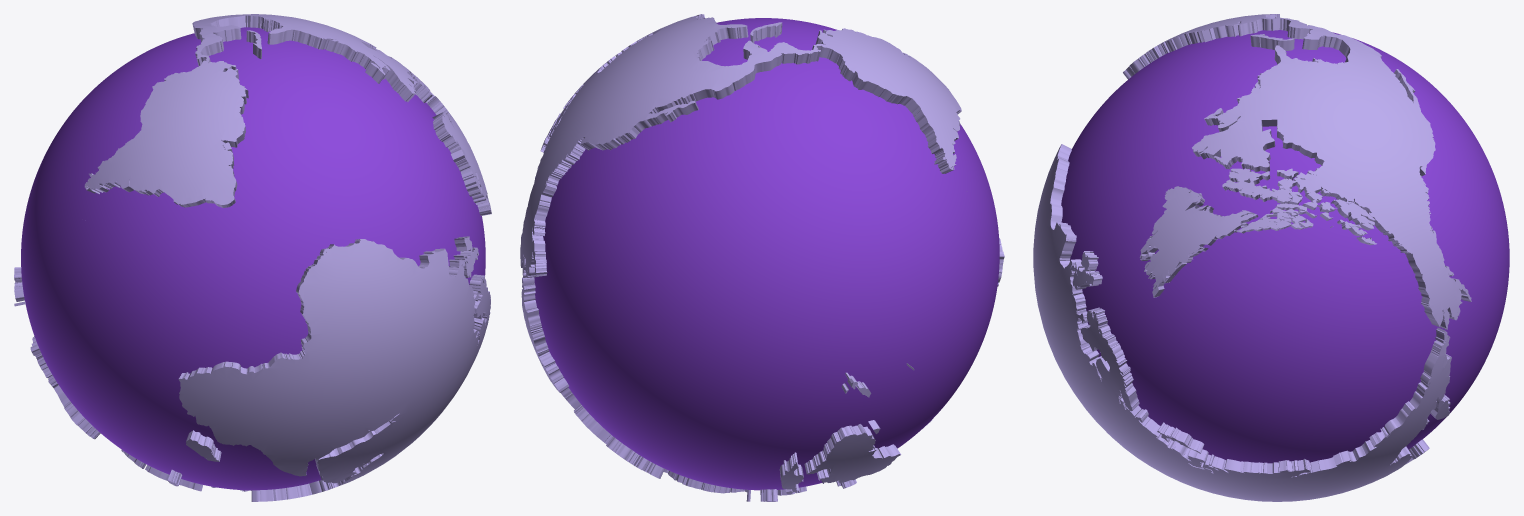
The model's file is newEarth.glb.
The picture shows the model from 3 angles, left to right: view 1: azimuth 30°, elevation 25°; view 2: azimuth 150°, elevation 25°; view 3: azimuth 270°, elevation 25°; orthographic projection.
Visible parts, largest first — view 1: Icosphere, map_new; view 2: Icosphere, map_new; view 3: Icosphere, map_new.
Part boxes in pixels (left/top/right/bottom): Icosphere: left=21, top=27, right=485, bottom=490; map_new: left=14, top=14, right=491, bottom=501; Icosphere: left=534, top=18, right=999, bottom=490; map_new: left=520, top=14, right=1004, bottom=501; Icosphere: left=1061, top=30, right=1509, bottom=463; map_new: left=1033, top=14, right=1471, bottom=501.
Size of the model in its own units: 1.01 by 1.06 by 1.04.
